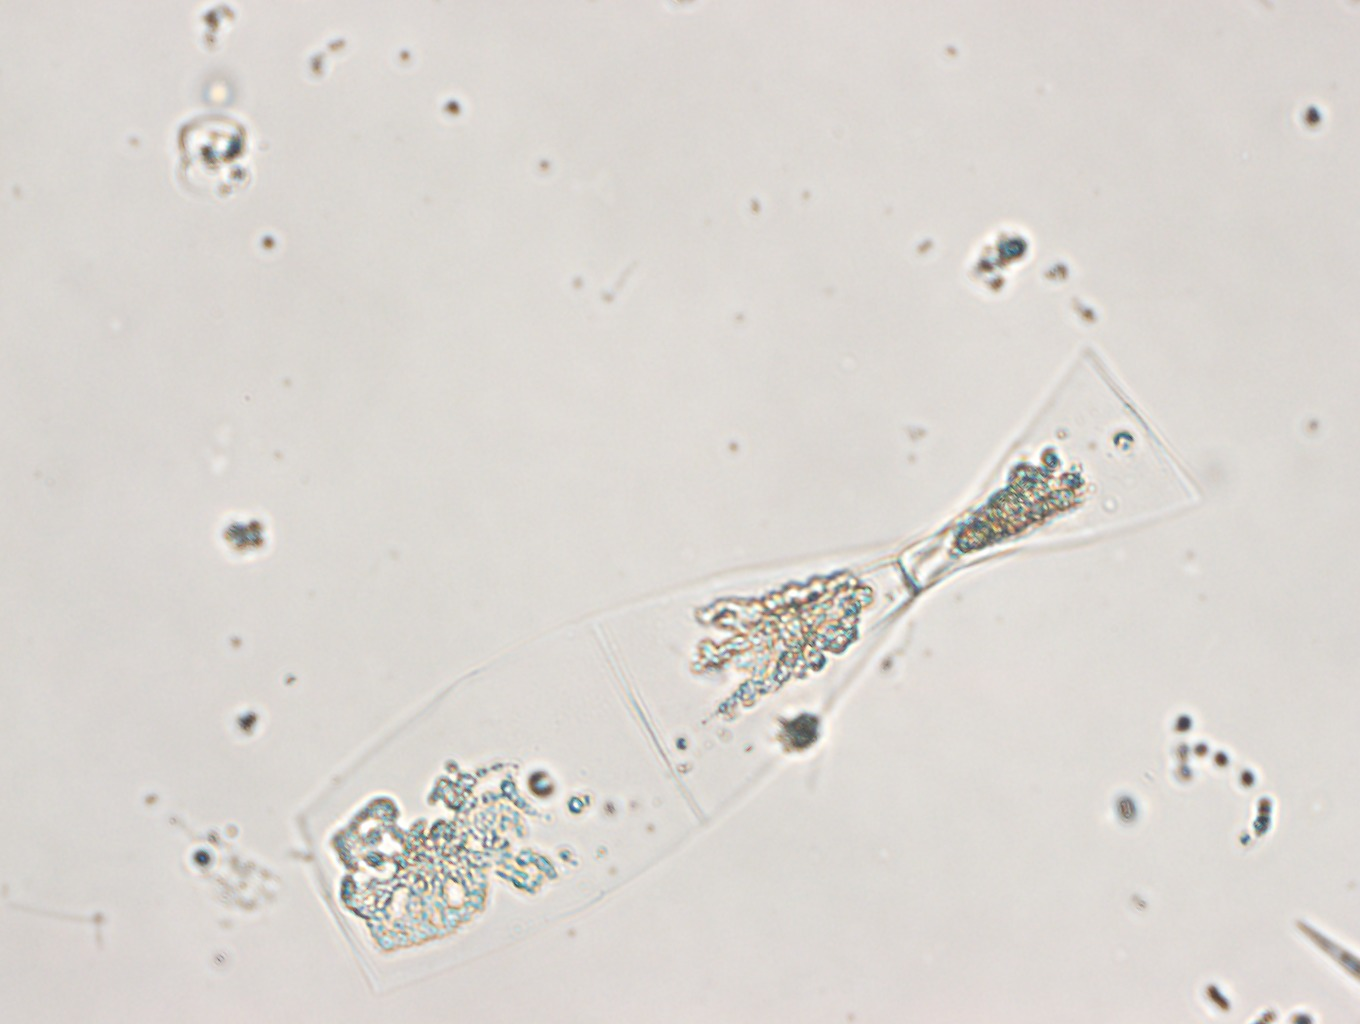helicotheca: (300, 349, 1215, 1001)
